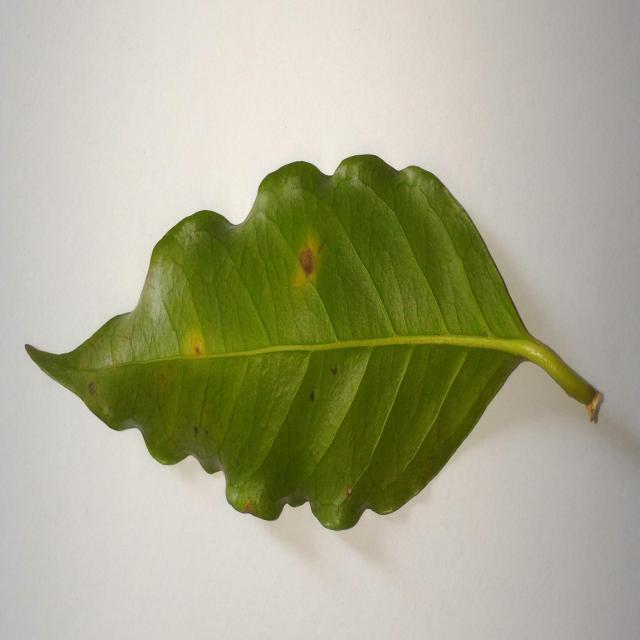Enfermedad-Mancha-de-hierro: (24, 155, 603, 534)
